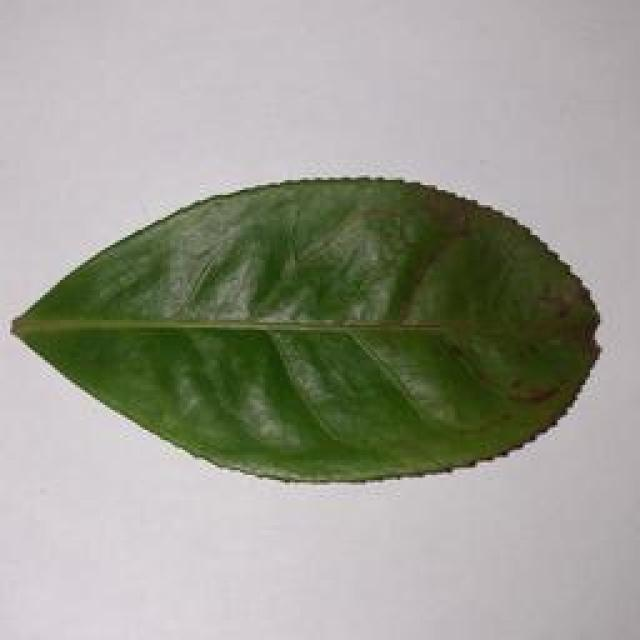Red Leaf Spot: (6, 177, 605, 501)
